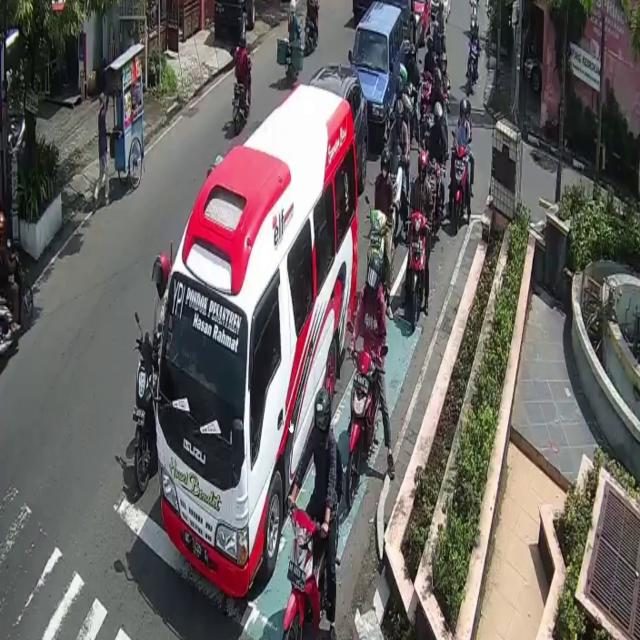bus: (285, 501, 332, 640), (349, 347, 380, 502), (0, 253, 35, 364), (134, 344, 159, 492), (363, 209, 390, 312), (409, 216, 427, 329), (230, 60, 253, 132), (452, 143, 468, 227), (464, 45, 480, 95)
car: (157, 82, 358, 594)
motorcycle: (351, 0, 407, 144), (312, 62, 370, 184)
